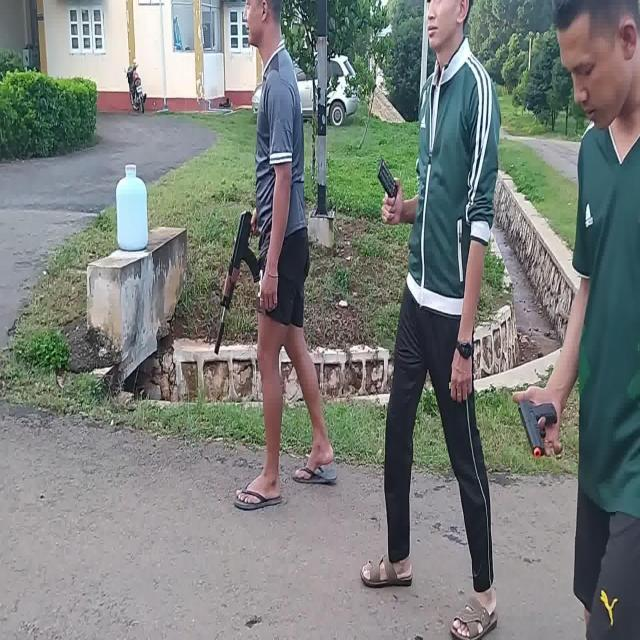gun: (214, 213, 260, 352), (518, 399, 558, 457)
